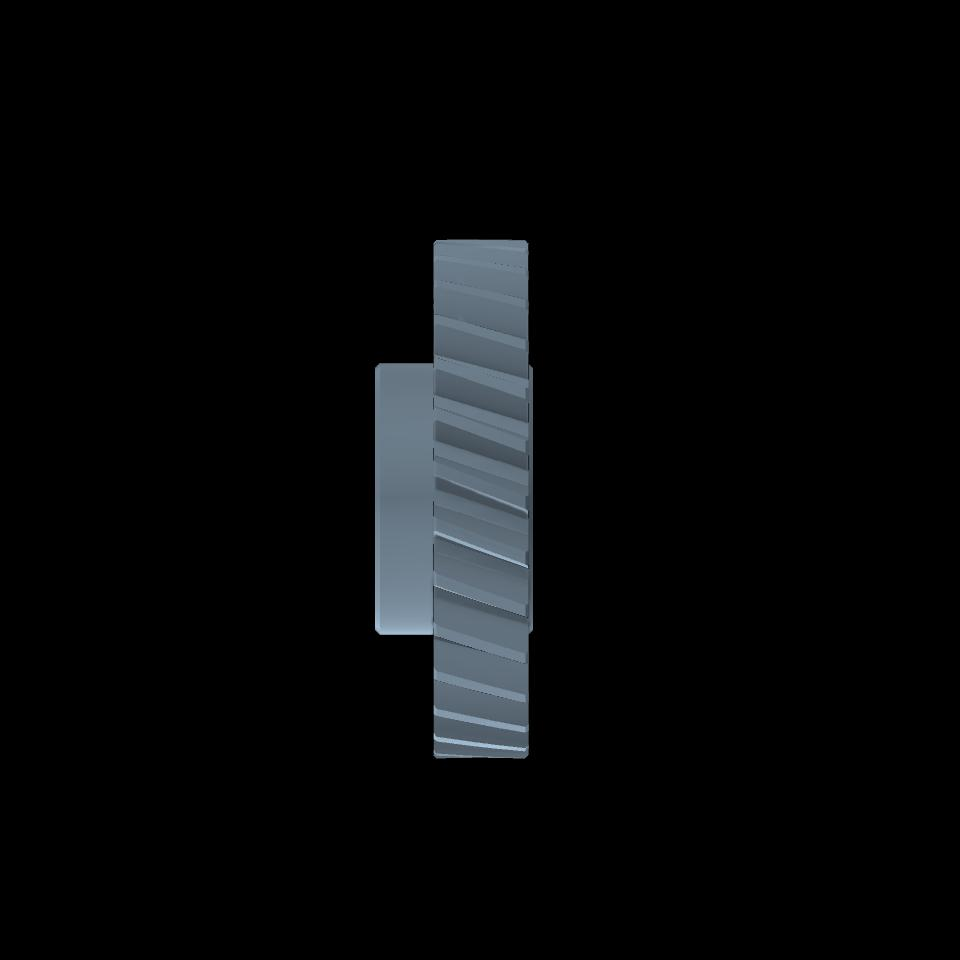Helical: (437, 240, 524, 758)
